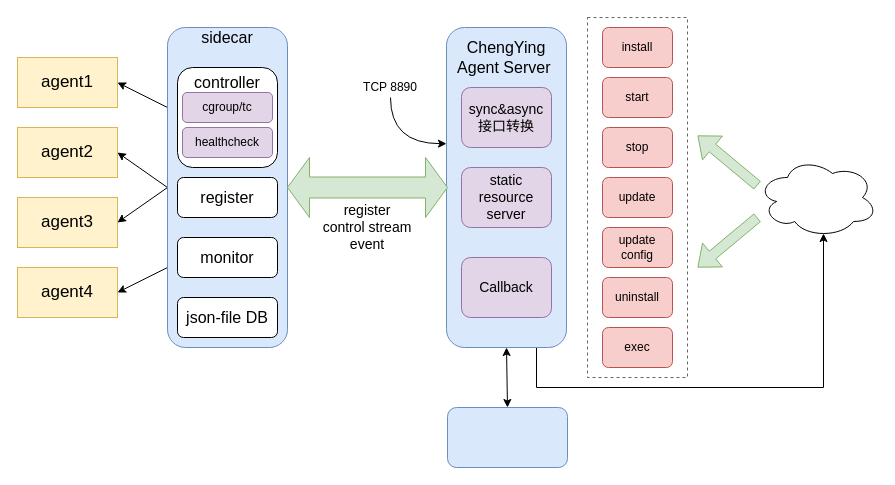
Some shapes in this 895 by 485 pixel diagram are drawn without their labels. Each missing label, with the box of its shape:
GRPC: (286, 156, 448, 218)
MySQL: (446, 406, 568, 468)
上层系统: (756, 156, 878, 238)
